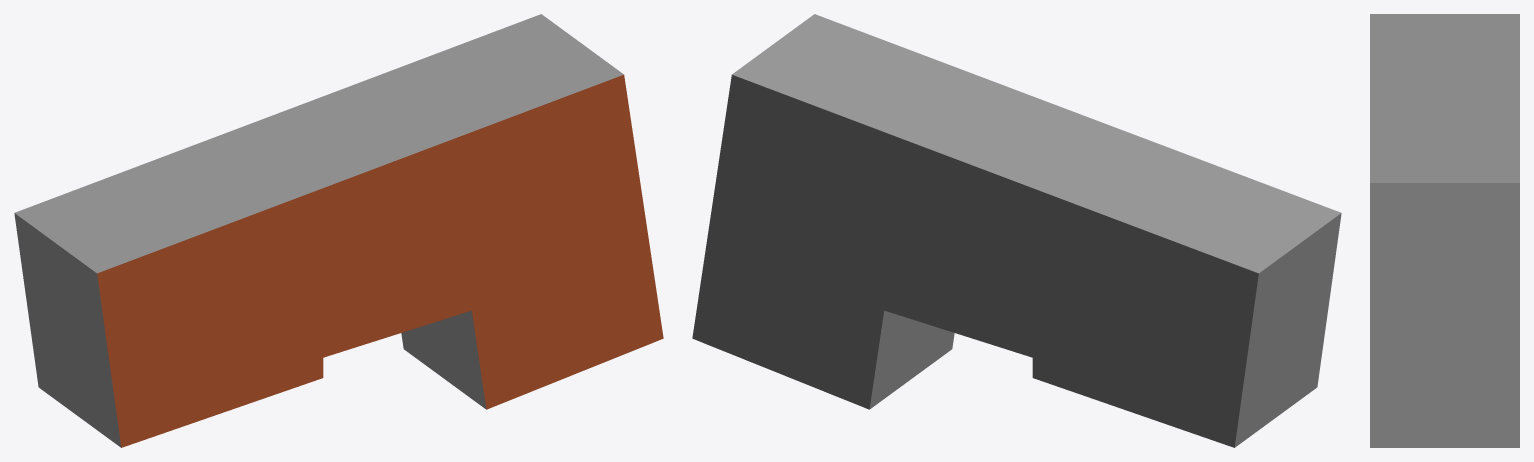
Rendered from construction_5847_assumed_A_Casa_h6m.obj.
3 renders of one model, left to right at view 1: azimuth 30°, elevation 25°; view 2: azimuth 150°, elevation 25°; view 3: azimuth 270°, elevation 25°, orthographic. The views are drawn at different scales.
Visible parts, largest first — view 1: construction_5847_assumed_A_Casa; view 2: construction_5847_assumed_A_Casa; view 3: construction_5847_assumed_A_Casa.
Boxes of the visible parts, x1,y1,x2,y2 form: construction_5847_assumed_A_Casa: (14,14,663,447); construction_5847_assumed_A_Casa: (692,14,1341,447); construction_5847_assumed_A_Casa: (1370,14,1519,447).
Bounding box in the file's own units: 23.71 × 12.06 × 6.
